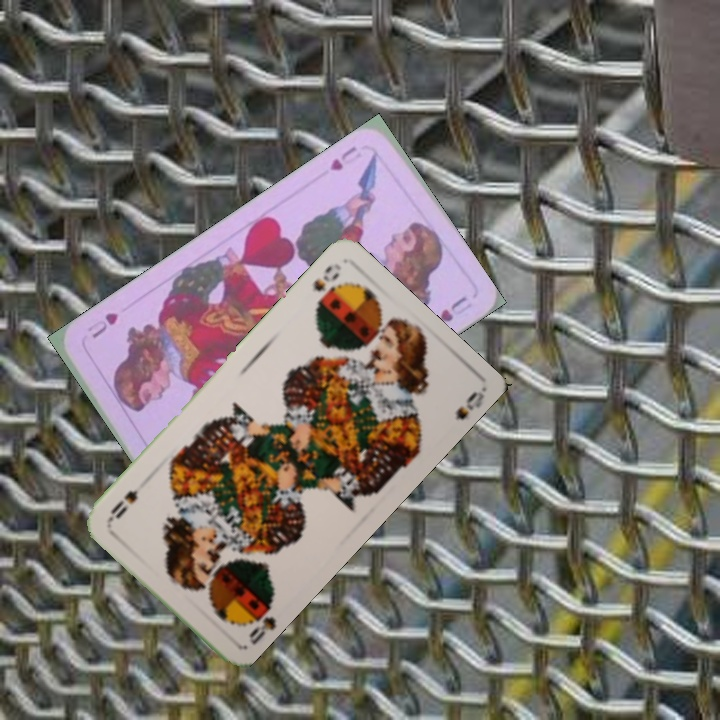HU: (326, 142, 359, 174)
SO: (244, 593, 279, 648), (308, 259, 344, 306)
